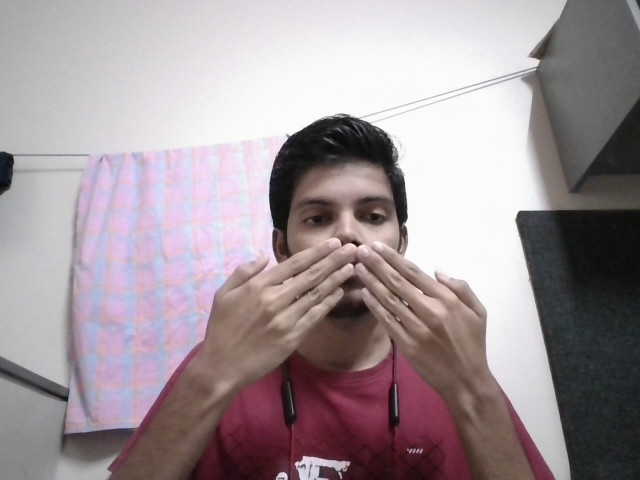Thank You: (203, 232, 489, 383)
